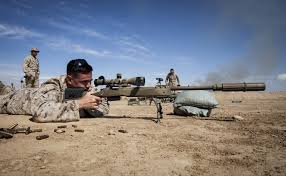Gun: (93, 72, 204, 105)
